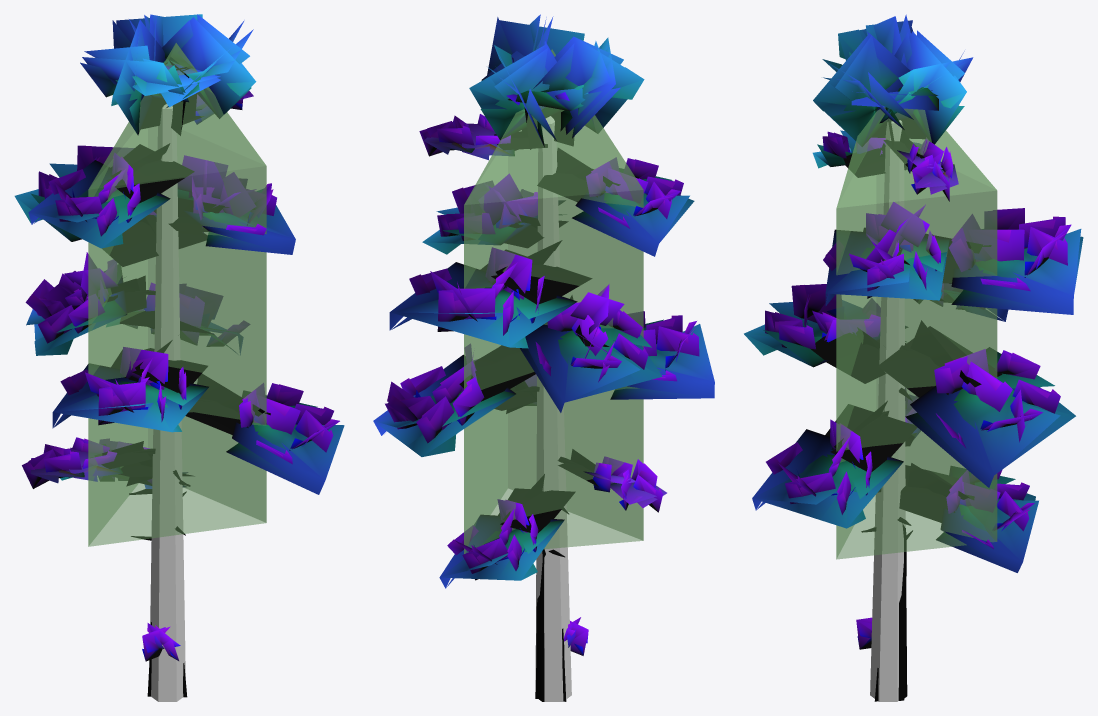
File: scots_pine_filler.dae
The picture shows the model from 3 angles, left to right: view 1: azimuth 30°, elevation 25°; view 2: azimuth 150°, elevation 25°; view 3: azimuth 270°, elevation 25°; orthographic projection.
Parts seen in each view (by area): view 1: Colmesh-1, scots_pine_filler_a1900, scots_pine_filler_a500; view 2: Colmesh-1, scots_pine_filler_a1900, scots_pine_filler_a500; view 3: scots_pine_filler_a1900, Colmesh-1, scots_pine_filler_a500.
Part boxes in pixels (<box>): Colmesh-1: <box>88,43,266,701</box>; scots_pine_filler_a1900: <box>15,14,344,697</box>; scots_pine_filler_a500: <box>15,14,339,697</box>; Colmesh-1: <box>464,49,643,701</box>; scots_pine_filler_a1900: <box>373,14,714,701</box>; scots_pine_filler_a500: <box>373,17,714,701</box>; scots_pine_filler_a1900: <box>744,14,1083,701</box>; Colmesh-1: <box>836,107,997,701</box>; scots_pine_filler_a500: <box>744,17,1082,700</box>.
Bounding box in the file's own units: 6.35 × 6.53 × 14.21.
